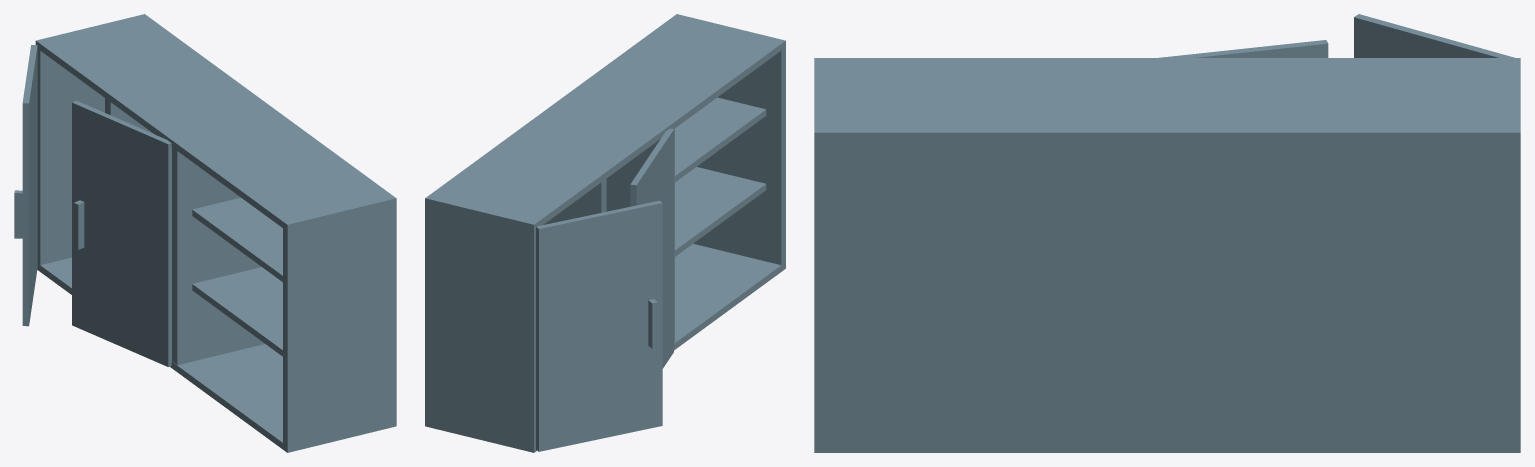
File: upper_kitchen_cabinet.fbx
3 renders of one model, left to right at view 1: azimuth 30°, elevation 25°; view 2: azimuth 150°, elevation 25°; view 3: azimuth 270°, elevation 25°, orthographic. The views are drawn at different scales.
Visible parts, largest first — view 1: upper_kitchen_cabinet; view 2: upper_kitchen_cabinet; view 3: upper_kitchen_cabinet.
Part boxes in pixels (x1,y1,x2,y2): upper_kitchen_cabinet: [14, 14, 396, 452]; upper_kitchen_cabinet: [425, 14, 785, 452]; upper_kitchen_cabinet: [814, 14, 1520, 452].
Bounding box in the file's own units: 83.27 × 100 × 200.
